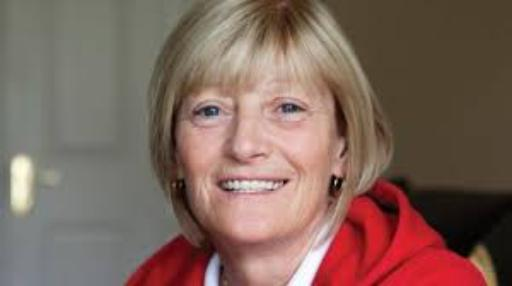left_eye: (271, 102, 310, 118)
left_lip_corner: (281, 176, 301, 186)
right_eye: (193, 105, 231, 121)
right_lip_corner: (212, 177, 228, 195)
